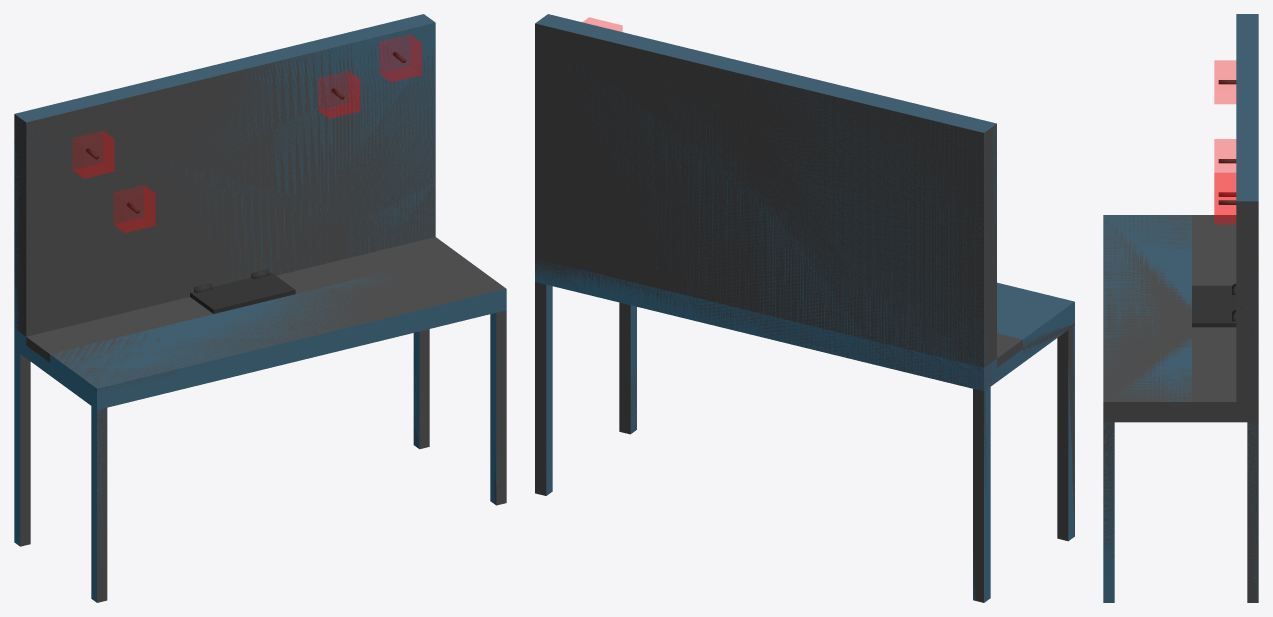
The model's file is Tool Rack.fbx.
3 renders of one model, left to right at view 1: azimuth 30°, elevation 25°; view 2: azimuth 150°, elevation 25°; view 3: azimuth 270°, elevation 25°, orthographic. The views are drawn at different scales.
Visible parts, largest first — view 1: Tool Rack, Solid, Door, IN4, IN1, IN2, IN3; view 2: Tool Rack, Solid; view 3: Tool Rack, Solid, Door, IN1, IN4, IN2, IN3.
Boxes of the visible parts, x1=… form: Tool Rack: x1=14, y1=14, x2=506, y2=602; Solid: x1=15, y1=14, x2=505, y2=601; Door: x1=190, y1=269, x2=295, y2=313; IN4: x1=379, y1=34, x2=421, y2=82; IN1: x1=72, y1=131, x2=114, y2=178; IN2: x1=113, y1=185, x2=155, y2=232; IN3: x1=318, y1=71, x2=359, y2=118; Tool Rack: x1=535, y1=14, x2=1074, y2=602; Solid: x1=535, y1=14, x2=1074, y2=602; Tool Rack: x1=1103, y1=14, x2=1258, y2=602; Solid: x1=1104, y1=14, x2=1257, y2=602; Door: x1=1192, y1=283, x2=1236, y2=327; IN1: x1=1214, y1=60, x2=1235, y2=103; IN4: x1=1214, y1=181, x2=1235, y2=224; IN2: x1=1214, y1=139, x2=1235, y2=180; IN3: x1=1214, y1=173, x2=1235, y2=216.
Size of the model in its own units: 2 by 2 by 0.7.
